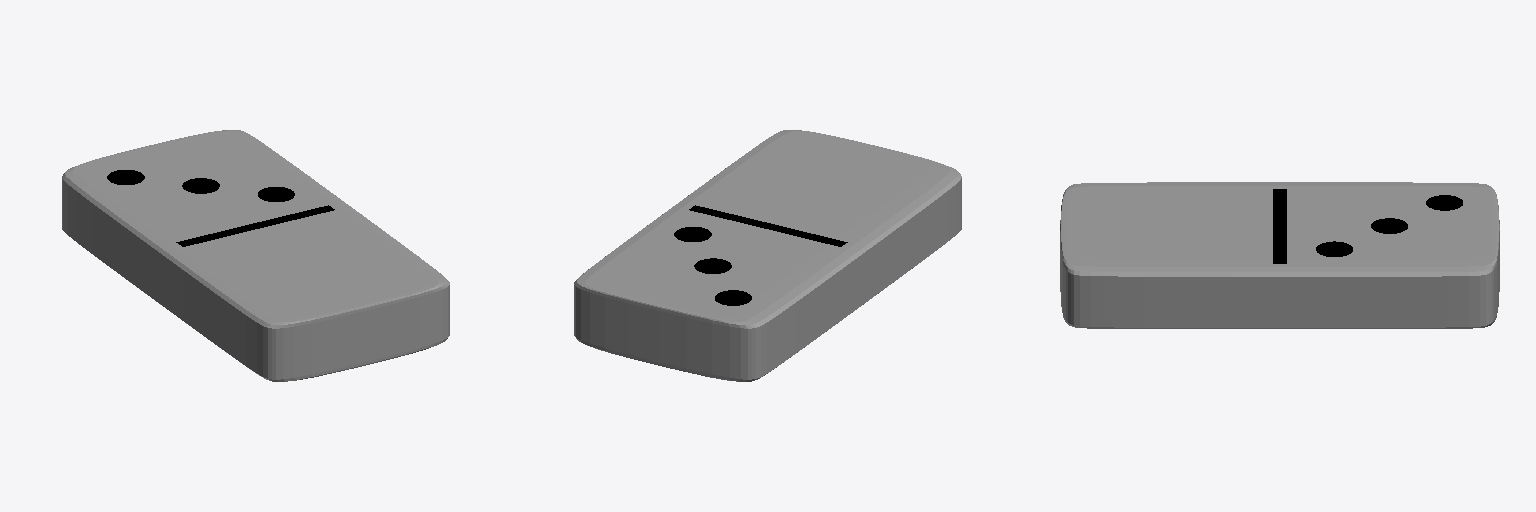
The picture shows the model from 3 angles: view 1: azimuth 30°, elevation 25°; view 2: azimuth 150°, elevation 25°; view 3: azimuth 270°, elevation 25°; orthographic projection.
Parts seen in each view (by area): view 1: Domino_1-3_Cube.006; view 2: Domino_1-3_Cube.006; view 3: Domino_1-3_Cube.006.
Part boxes in pixels (x1,y1,x2,y2): Domino_1-3_Cube.006: (62, 130, 449, 381); Domino_1-3_Cube.006: (574, 130, 961, 381); Domino_1-3_Cube.006: (1060, 182, 1499, 328).
Bounding box in the file's own units: 2 × 0.5993 × 3.99.